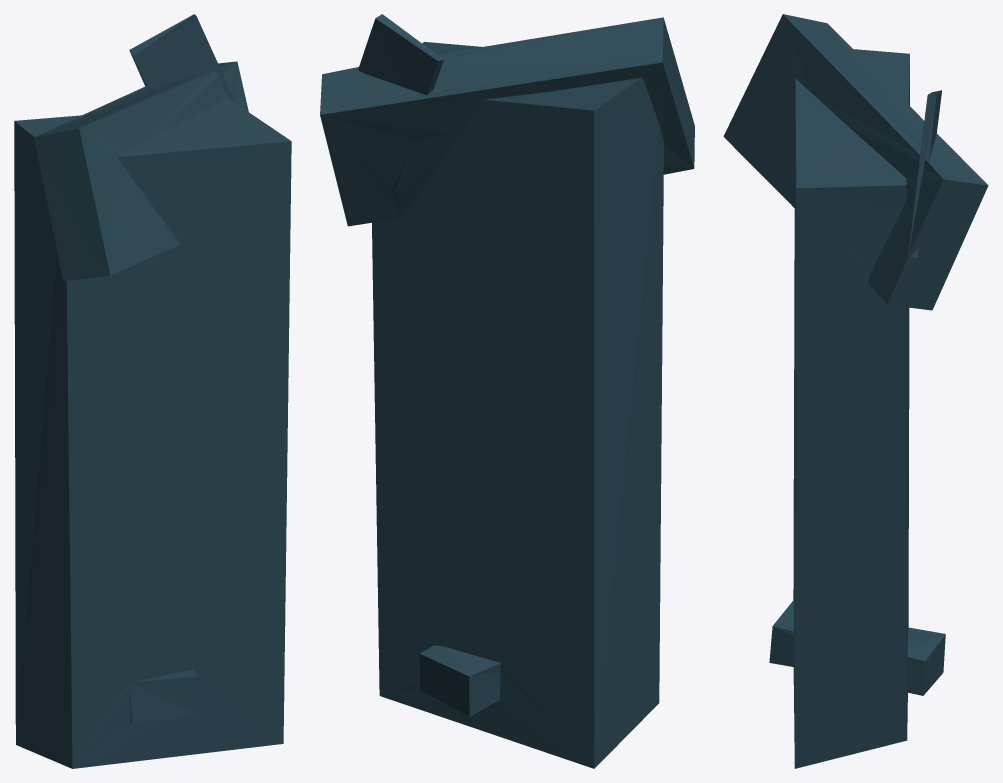
3 views of the same model, side by side, from view 1: azimuth 30°, elevation 25°; view 2: azimuth 150°, elevation 25°; view 3: azimuth 270°, elevation 25° (orthographic). The views are drawn at different scales.
Parts seen in each view (by area): view 1: 468_Cube.1898; view 2: 468_Cube.1898; view 3: 468_Cube.1898.
Boxes of the visible parts, bbox=[...] form: 468_Cube.1898: bbox=[14, 14, 291, 768]; 468_Cube.1898: bbox=[320, 14, 694, 768]; 468_Cube.1898: bbox=[723, 14, 988, 768].
Size of the model in its own units: 5.59 by 13.62 by 4.92.
